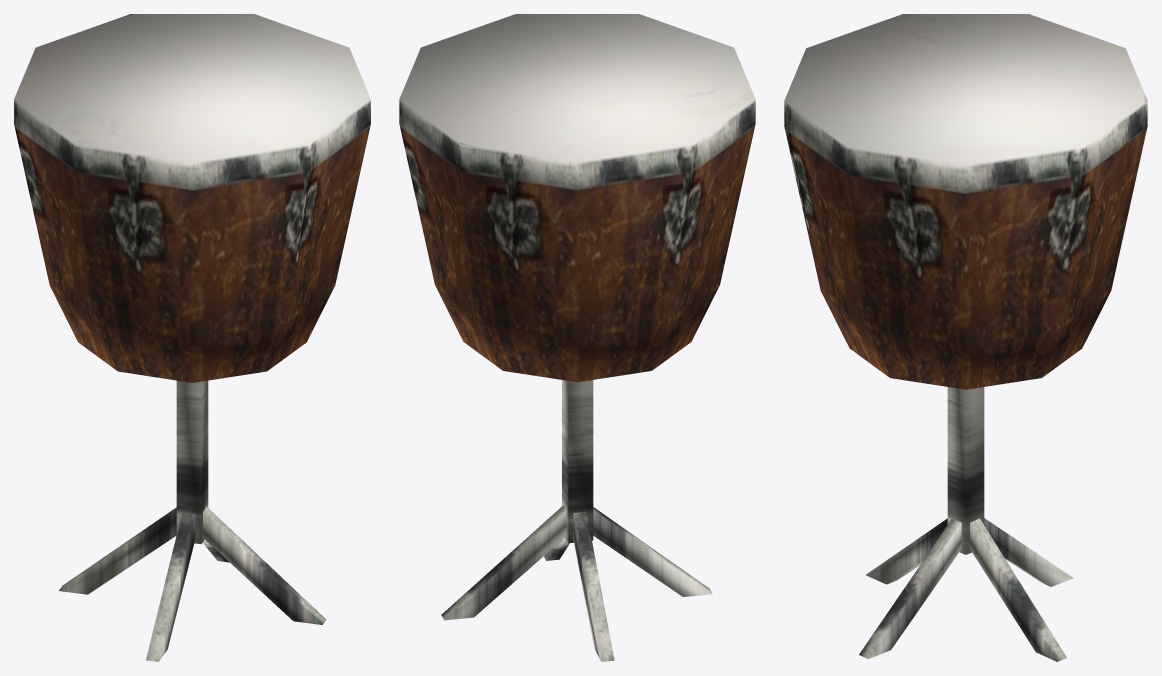
The model's file is ITMI_IE_DRUM.glb.
3 renders of one model, left to right at view 1: azimuth 30°, elevation 25°; view 2: azimuth 150°, elevation 25°; view 3: azimuth 270°, elevation 25°, orthographic. The views are drawn at different scales.
Parts seen in each view (by area): view 1: Mesh; view 2: Mesh; view 3: Mesh.
Boxes of the visible parts, x1,y1,x2,y2 form: Mesh: [14, 14, 370, 661]; Mesh: [399, 14, 755, 661]; Mesh: [784, 14, 1147, 661].
Bounding box in the file's own units: 0.6132 × 1 × 0.6226.
Materials: 1 (1 with a texture image).
